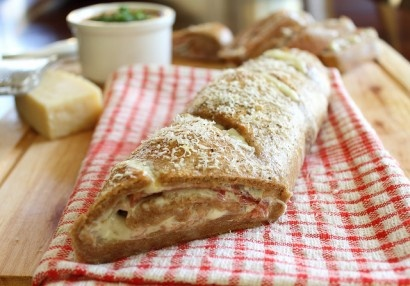background: (45, 21, 212, 118), (10, 31, 67, 63), (45, 3, 102, 9)
